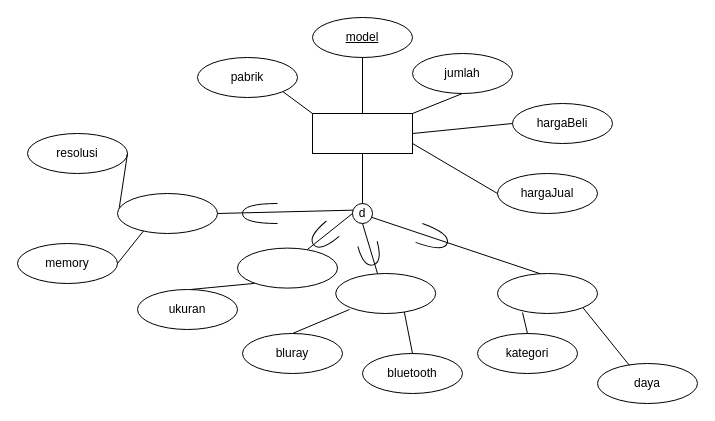
This 715x421 diagram has some shape labels left out. Each missing label, with the centre of its shape:
audio: (385,293)
Barang: (362,133)
kamera: (167,213)
lain-lain: (547,293)
TV: (287,267)
